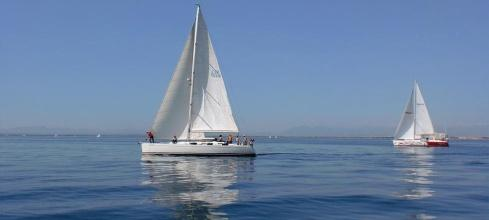fanchuan: (133, 1, 270, 162), (390, 82, 463, 151)
